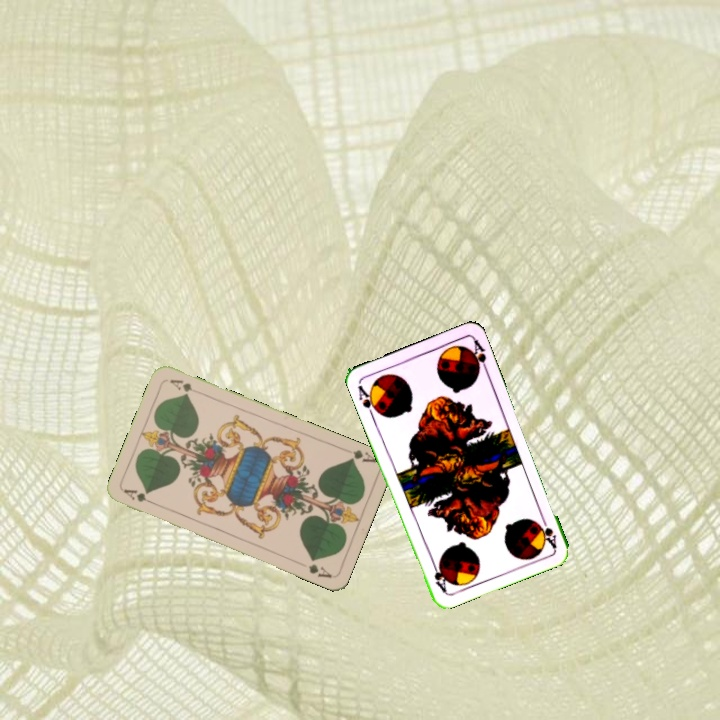GA: (120, 485, 159, 508), (345, 446, 379, 465)
SA: (354, 381, 382, 419), (533, 511, 559, 551)
